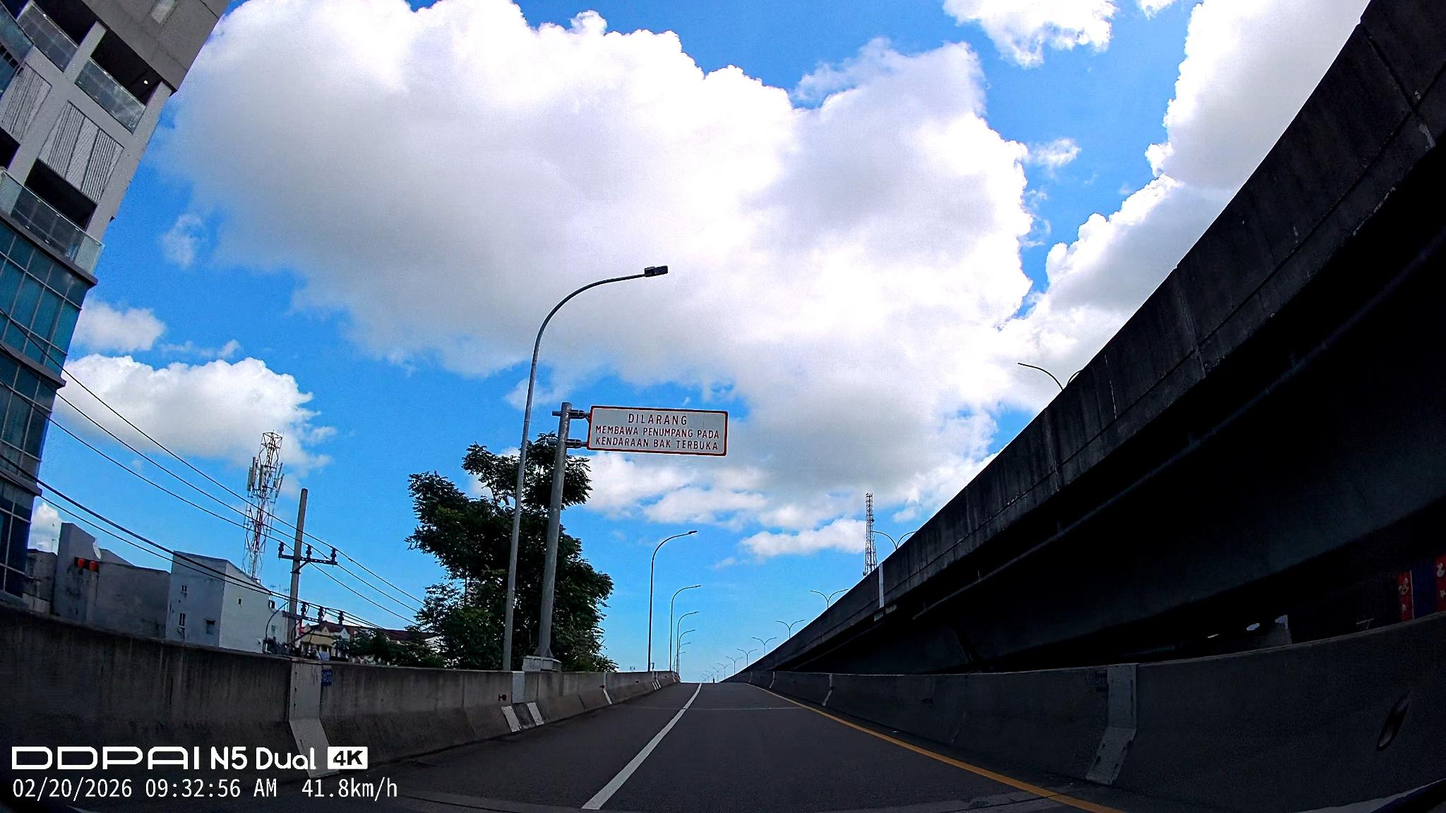rambu_teks: (587, 406, 728, 456)
